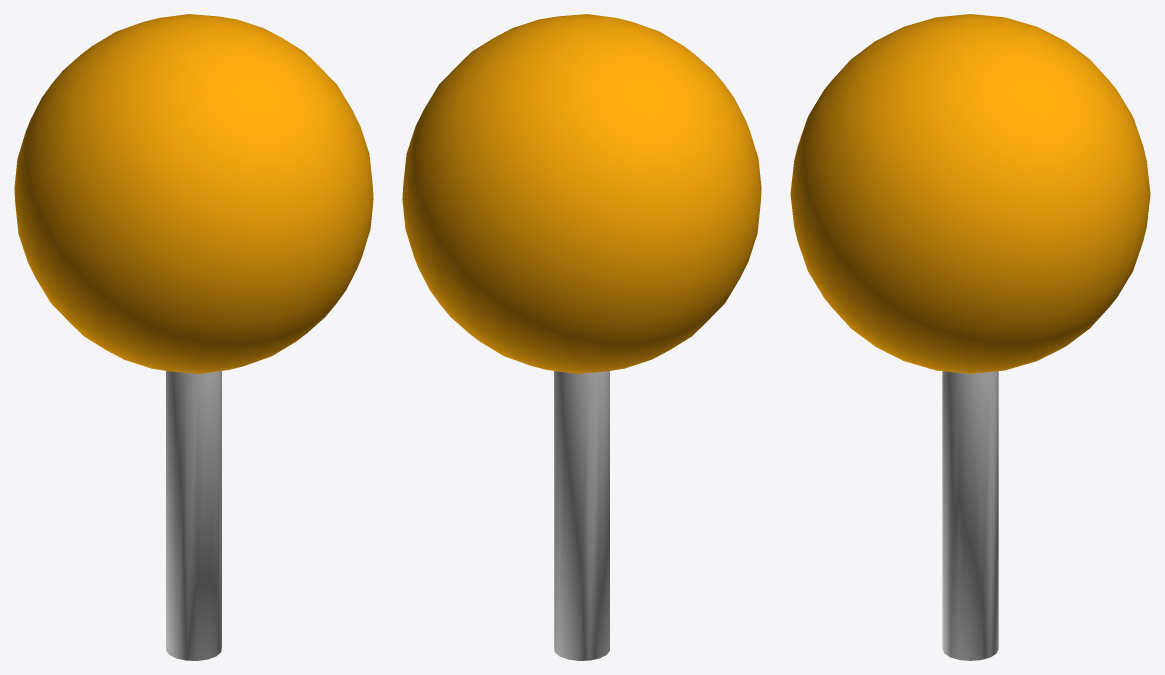
Rendered from orange.glb.
3 views of the same model, side by side, from view 1: azimuth 30°, elevation 25°; view 2: azimuth 150°, elevation 25°; view 3: azimuth 270°, elevation 25° (orthographic).
Parts seen in each view (by area): view 1: Orange; view 2: Orange; view 3: Orange.
Part boxes in pixels (bbox=[...]): Orange: bbox=[14, 14, 373, 660]; Orange: bbox=[402, 14, 761, 660]; Orange: bbox=[790, 14, 1150, 660].
Size of the model in its own units: 0.3764 by 0.7133 by 0.3764.
